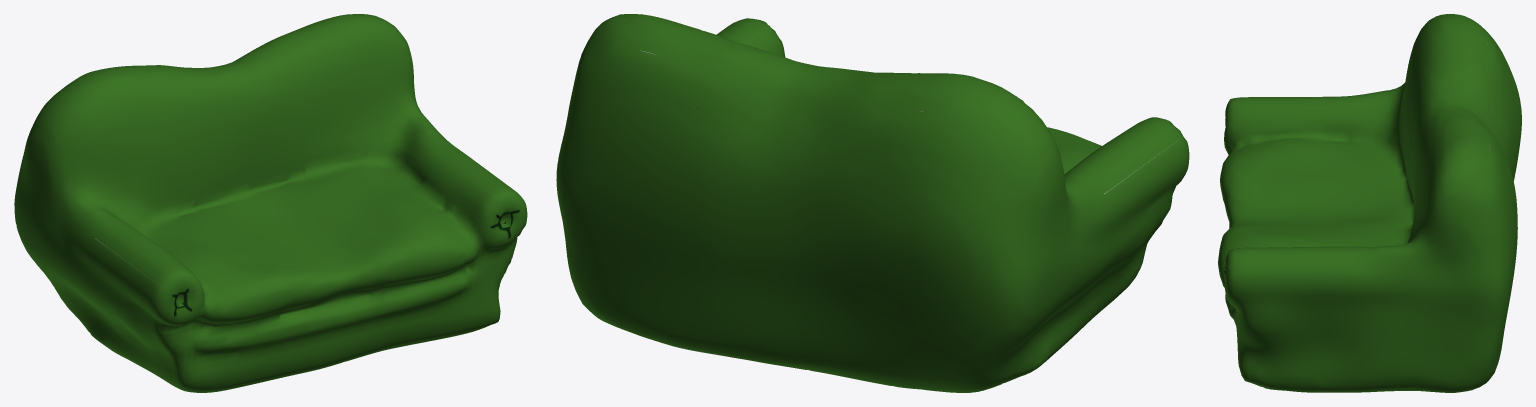
The model's file is SILLON_ROCKO.obj.
3 renders of one model, left to right at view 1: azimuth 30°, elevation 25°; view 2: azimuth 150°, elevation 25°; view 3: azimuth 270°, elevation 25°, orthographic. The views are drawn at different scales.
Parts seen in each view (by area): view 1: SILLON_ROCKO:Mesh; view 2: SILLON_ROCKO:Mesh; view 3: SILLON_ROCKO:Mesh.
Part boxes in pixels (x1,y1,x2,y2): SILLON_ROCKO:Mesh: (14,14,527,392); SILLON_ROCKO:Mesh: (556,14,1189,392); SILLON_ROCKO:Mesh: (1218,14,1521,392).
Size of the model in its own units: 6.27 by 3.97 by 4.52.
1 material, 1 textured.
